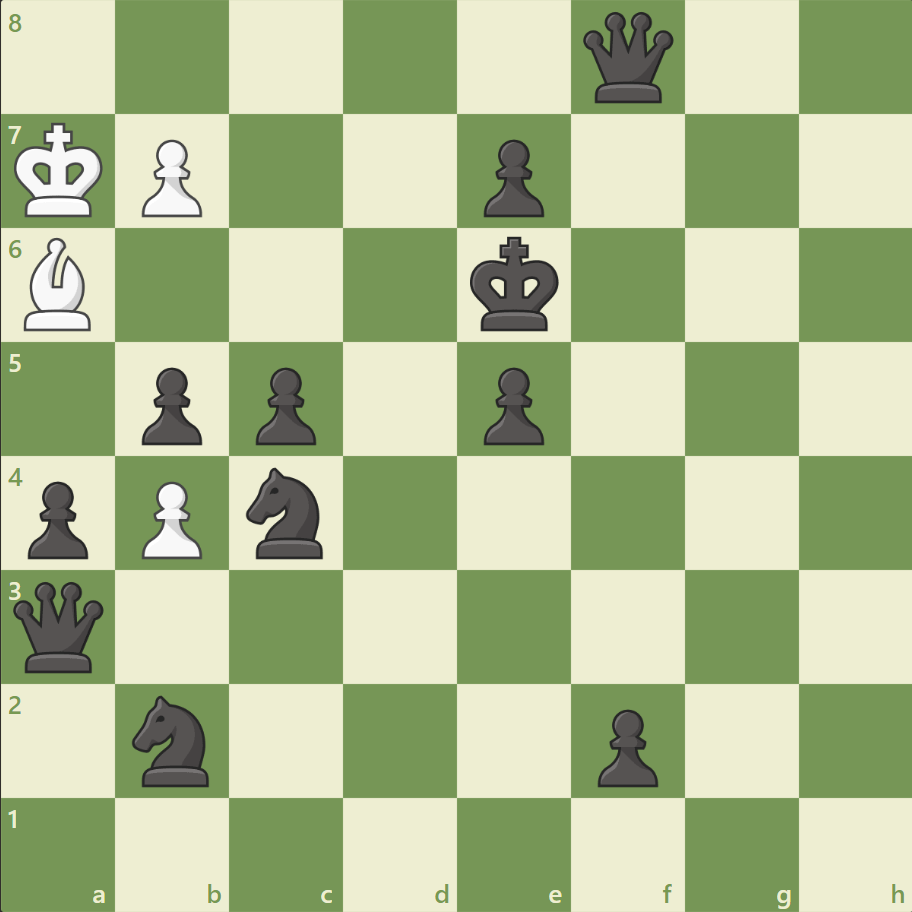B: (17, 233, 101, 336)
K: (11, 117, 111, 225)
P: (133, 132, 208, 223), (133, 473, 208, 564)
k: (465, 231, 565, 339)
n: (124, 688, 222, 791), (238, 461, 335, 564)
p: (474, 132, 549, 223), (133, 359, 208, 450), (247, 359, 322, 450), (474, 359, 549, 450), (20, 473, 95, 564), (588, 700, 662, 791)
q: (10, 576, 109, 676), (578, 9, 677, 108)
